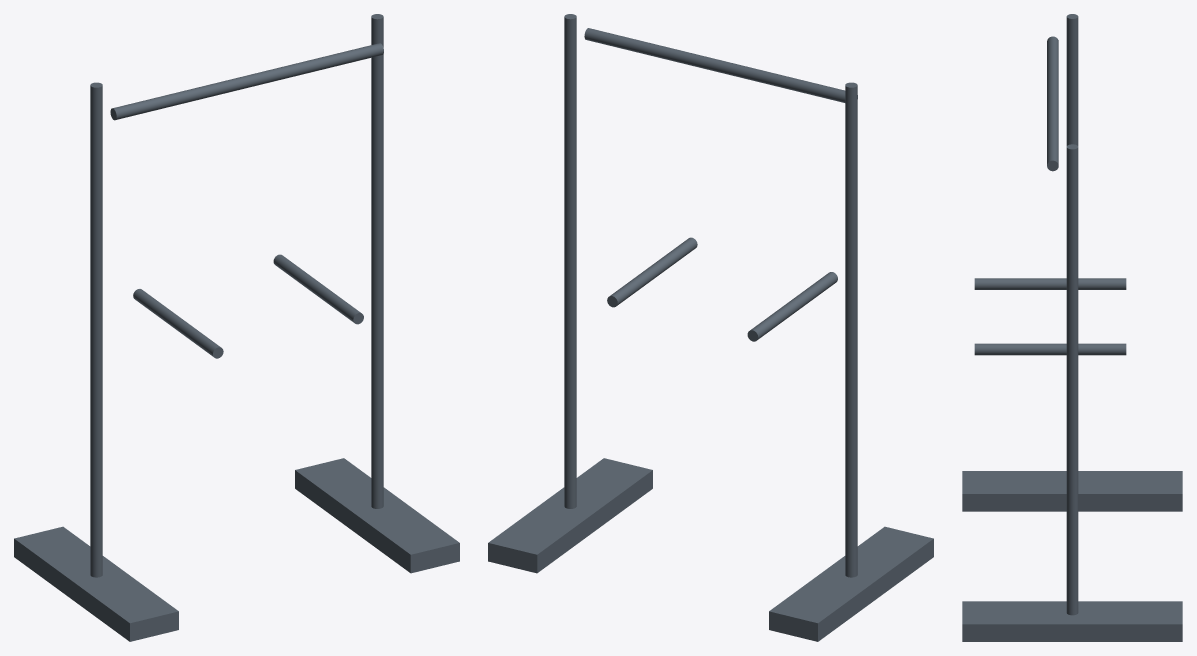
The model's file is dip_station.glb.
3 renders of one model, left to right at view 1: azimuth 30°, elevation 25°; view 2: azimuth 150°, elevation 25°; view 3: azimuth 270°, elevation 25°, orthographic. The views are drawn at different scales.
Visible parts, largest first — view 1: base (×2), upright (×2), chinBar, dipRail (×2); view 2: base (×2), upright (×2), chinBar, dipRail (×2); view 3: base (×2), upright (×2), dipRail (×2), chinBar.
Part boxes in pixels (x1,y1,x2,y2): base (×2): [14, 458, 459, 641]; upright (×2): [90, 14, 383, 577]; chinBar: [110, 43, 383, 120]; dipRail (×2): [133, 254, 363, 358]; base (×2): [488, 458, 933, 641]; upright (×2): [564, 14, 857, 577]; chinBar: [584, 28, 857, 102]; dipRail (×2): [607, 237, 837, 341]; base (×2): [962, 471, 1182, 641]; upright (×2): [1066, 14, 1078, 615]; dipRail (×2): [974, 278, 1126, 355]; chinBar: [1047, 36, 1058, 171].
Size of the model in its own units: 1.48 by 2.18 by 0.9.
